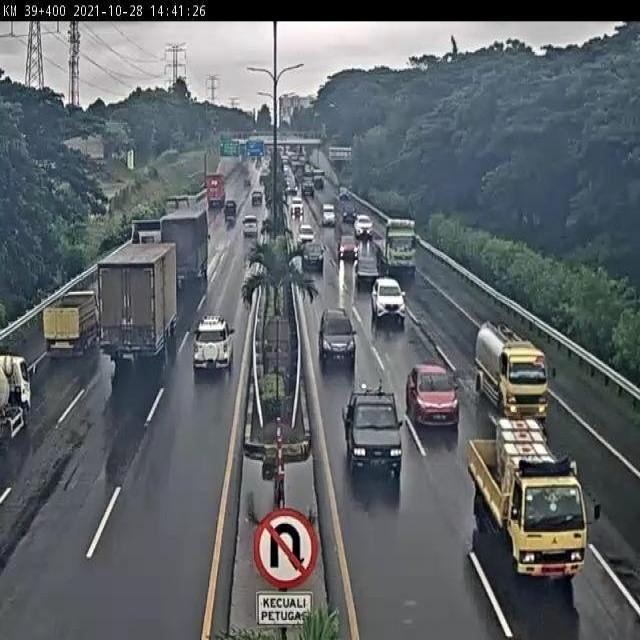big truck: (120, 216, 162, 265)
car: (340, 383, 403, 480), (406, 364, 460, 429), (192, 316, 234, 373), (317, 303, 354, 357), (371, 277, 406, 323), (354, 253, 380, 290), (301, 241, 324, 272)
mid truck: (97, 242, 179, 358), (159, 208, 210, 281)
small truck: (42, 289, 101, 359)
truck-m-: (467, 420, 593, 585), (474, 320, 550, 421)
